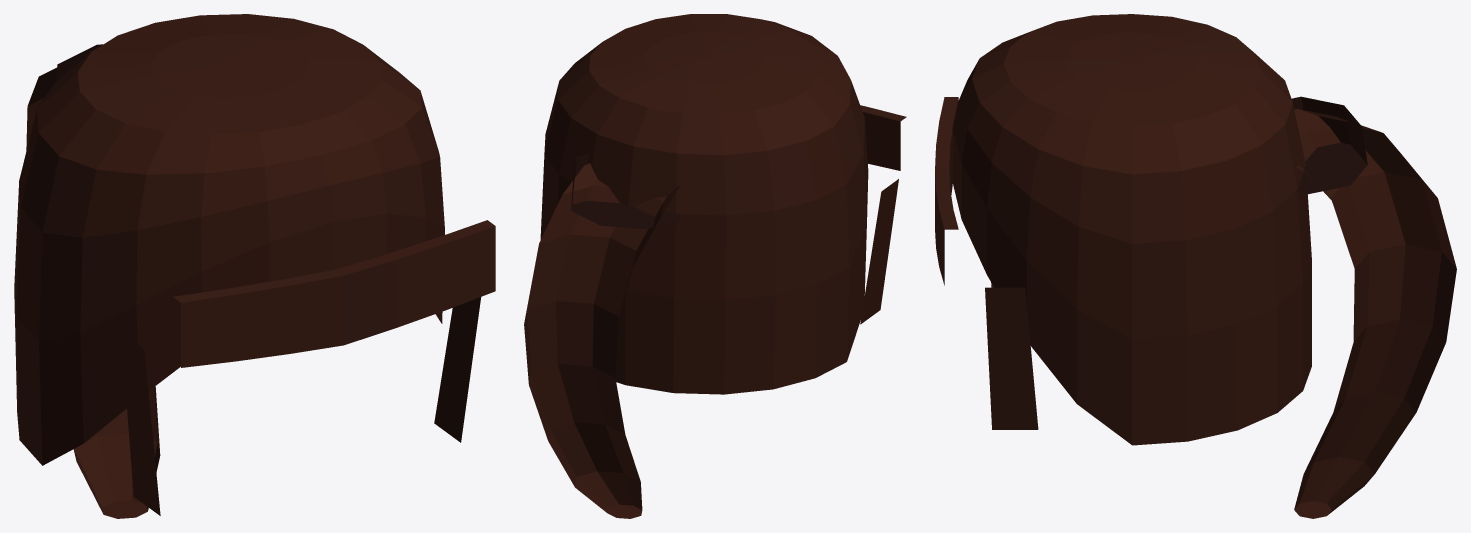
Rendered from hair_girl_ponytail_01.glb.
3 views of the same model, side by side, from view 1: azimuth 30°, elevation 25°; view 2: azimuth 150°, elevation 25°; view 3: azimuth 270°, elevation 25° (orthographic). The views are drawn at different scales.
Parts seen in each view (by area): view 1: HairCap, HairFringe, HairSideLocks, PonytailRigid; view 2: HairCap, PonytailRigid, HairSideLocks, PonytailTie, HairFringe; view 3: HairCap, PonytailRigid, HairSideLocks, PonytailTie, HairFringe.
Part boxes in pixels (x1,y1,x2,y2): HairCap: [14, 14, 444, 465]; HairFringe: [173, 220, 495, 367]; HairSideLocks: [121, 297, 481, 515]; PonytailRigid: [26, 67, 160, 518]; HairCap: [540, 14, 868, 394]; PonytailRigid: [524, 163, 679, 518]; HairSideLocks: [860, 179, 898, 324]; PonytailTie: [571, 153, 680, 229]; HairFringe: [860, 105, 906, 170]; HairCap: [953, 14, 1311, 445]; PonytailRigid: [1294, 109, 1456, 518]; HairSideLocks: [985, 282, 1038, 429]; PonytailTie: [1291, 96, 1367, 194]; HairFringe: [935, 97, 958, 285].
Size of the model in its own units: 0.32 by 0.418 by 0.439.
